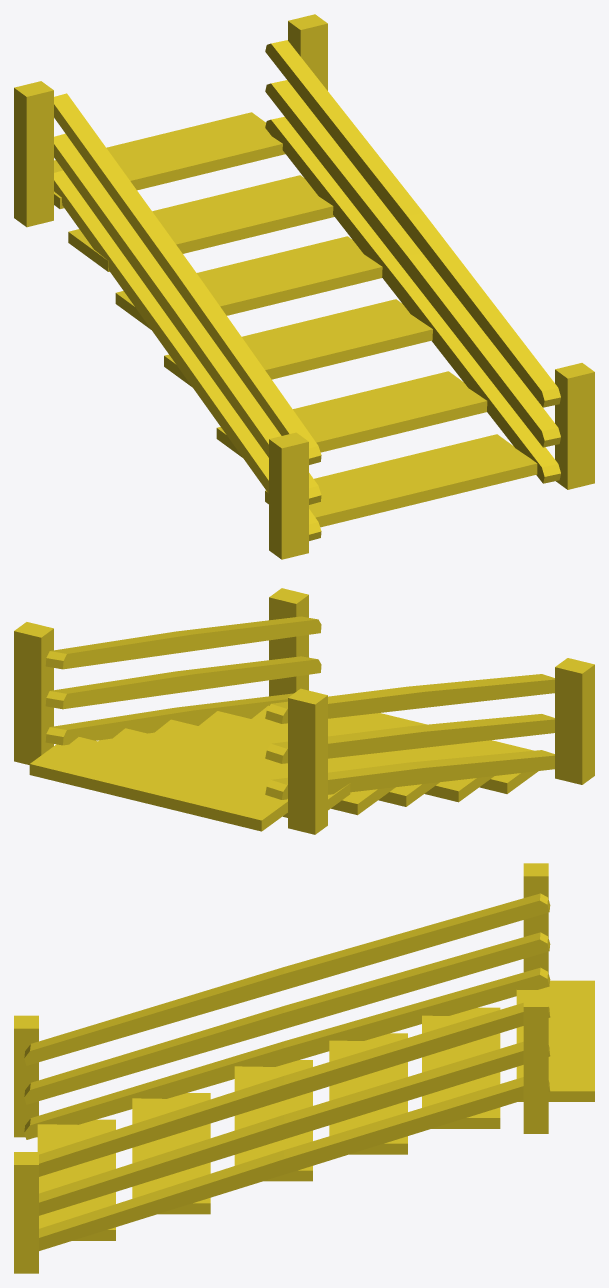
The model's file is Stairs.fbx.
3 renders of one model, top to bottom at view 1: azimuth 30°, elevation 25°; view 2: azimuth 150°, elevation 25°; view 3: azimuth 270°, elevation 25°, orthographic. The views are drawn at different scales.
Parts seen in each view (by area): view 1: Rails.002, Rails.001, Rails, Step1, BeamG, Step 2, Cube.005, Cube.008, Step1.001, Step 2.001, BeaH; view 2: Step 2.001, Rails.001, Rails.002, BeaH, Rails, BeamG, Step1.001, Cube.008, Cube.005, Step1, Step 2; view 3: Rails.001, Rails.002, Rails, Step 2.001, BeaH, BeamG, Step1, Step 2, Step1.001, Cube.008, Cube.005.
Part boxes in pixels (x1=…): Rails.002: x1=54, y1=40, x2=560, y2=464; Rails.001: x1=54, y1=80, x2=560, y2=504; Rails: x1=54, y1=116, x2=560, y2=540; Step1: x1=265, y1=434, x2=537, y2=527; BeamG: x1=269, y1=363, x2=594, y2=559; Step 2: x1=216, y1=371, x2=487, y2=457; Cube.005: x1=164, y1=299, x2=432, y2=387; Cube.008: x1=115, y1=236, x2=382, y2=329; Step1.001: x1=68, y1=175, x2=334, y2=271; Step 2.001: x1=54, y1=112, x2=285, y2=208; BeaH: x1=14, y1=14, x2=327, y2=227; Step 2.001: x1=29, y1=737, x2=287, y2=831; Rails.001: x1=45, y1=656, x2=554, y2=763; Rails.002: x1=45, y1=616, x2=554, y2=723; BeaH: x1=14, y1=622, x2=327, y2=834; Rails: x1=45, y1=693, x2=554, y2=799; BeamG: x1=269, y1=588, x2=594, y2=784; Step1.001: x1=98, y1=728, x2=350, y2=817; Cube.008: x1=148, y1=719, x2=395, y2=815; Cube.005: x1=198, y1=711, x2=439, y2=806; Step1: x1=328, y1=713, x2=538, y2=793; Step 2: x1=251, y1=705, x2=494, y2=802; Rails.001: x1=24, y1=932, x2=550, y2=1215; Rails.002: x1=24, y1=893, x2=550, y2=1176; Rails: x1=24, y1=967, x2=550, y2=1250; Step 2.001: x1=516, y1=980, x2=594, y2=1101; BeaH: x1=523, y1=863, x2=548, y2=1133; BeamG: x1=14, y1=1015, x2=38, y2=1273; Step1: x1=37, y1=1119, x2=115, y2=1240; Step 2: x1=132, y1=1093, x2=210, y2=1214; Step1.001: x1=422, y1=1007, x2=500, y2=1128; Cube.008: x1=329, y1=1033, x2=407, y2=1154; Cube.005: x1=234, y1=1060, x2=312, y2=1181.
Bounding box in the file's own units: 259 × 214 × 427.
